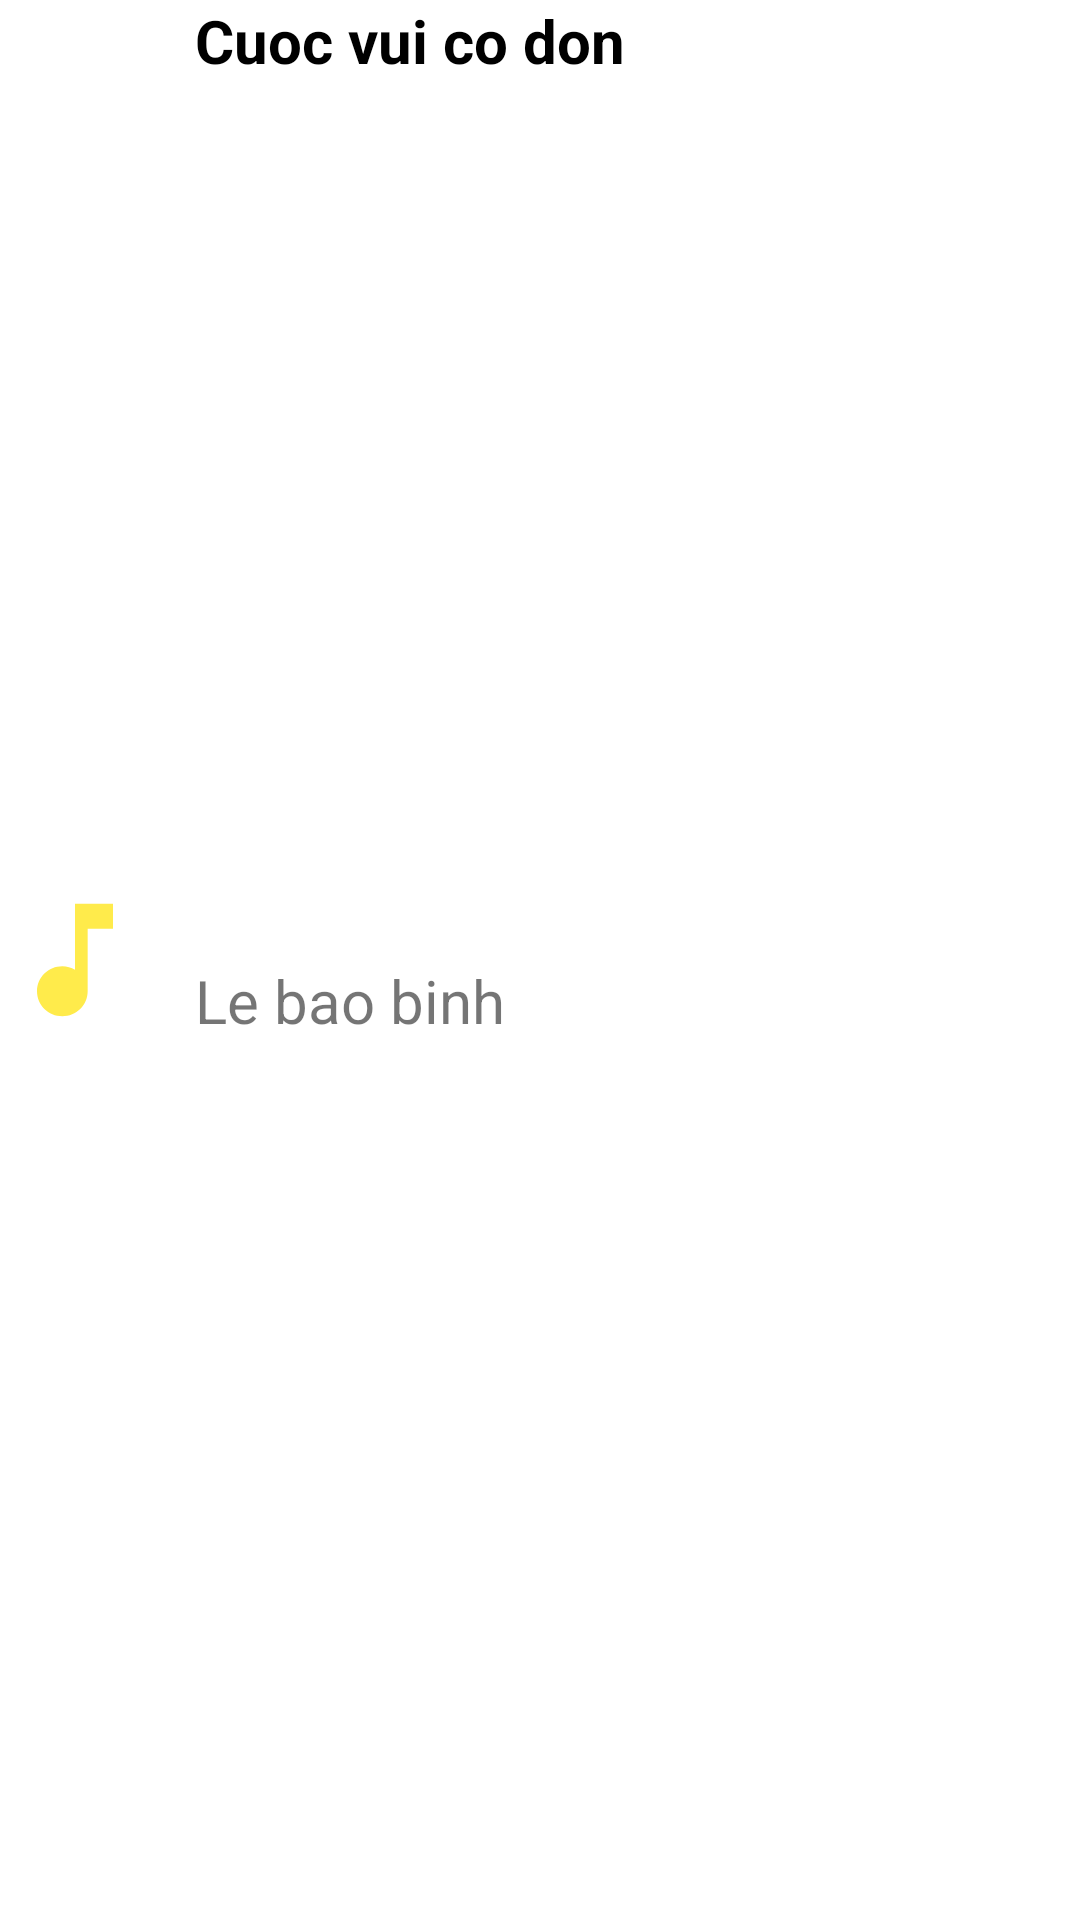

Screen size 1080×1920. Icon name, then its box in pixels as (x1,y1,x2,y2):
music note: (37,903,113,1017)
